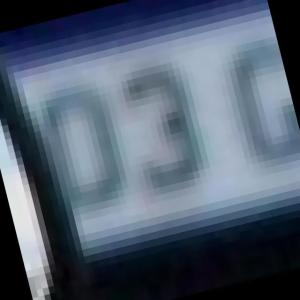Plate: (0, 0, 300, 286)
